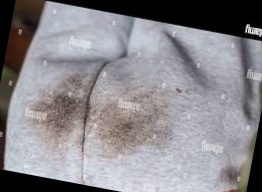earth: (97, 107, 150, 145), (45, 86, 82, 137)
